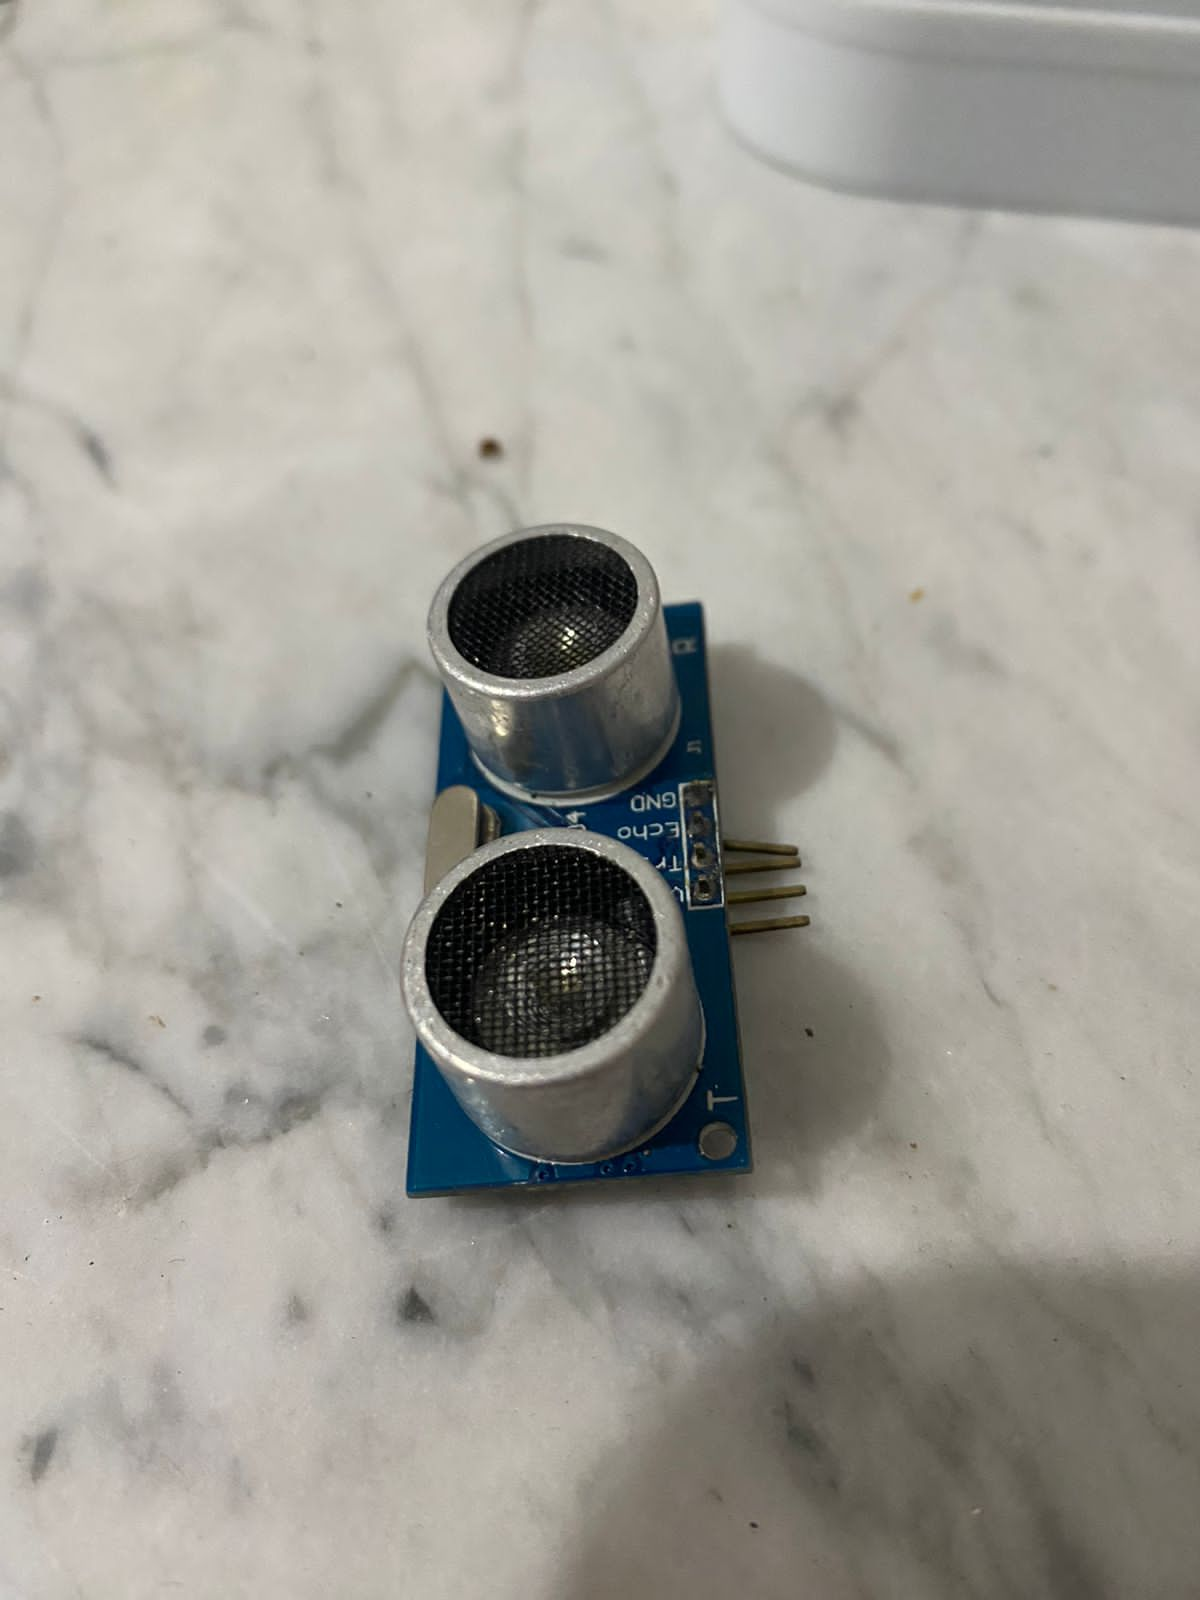capteur-ultrasonique: (323, 511, 837, 1199)
